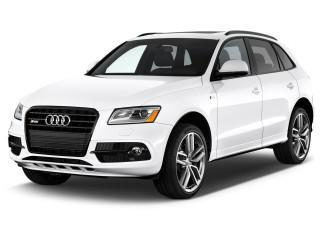Audi: (40, 112, 75, 129)
